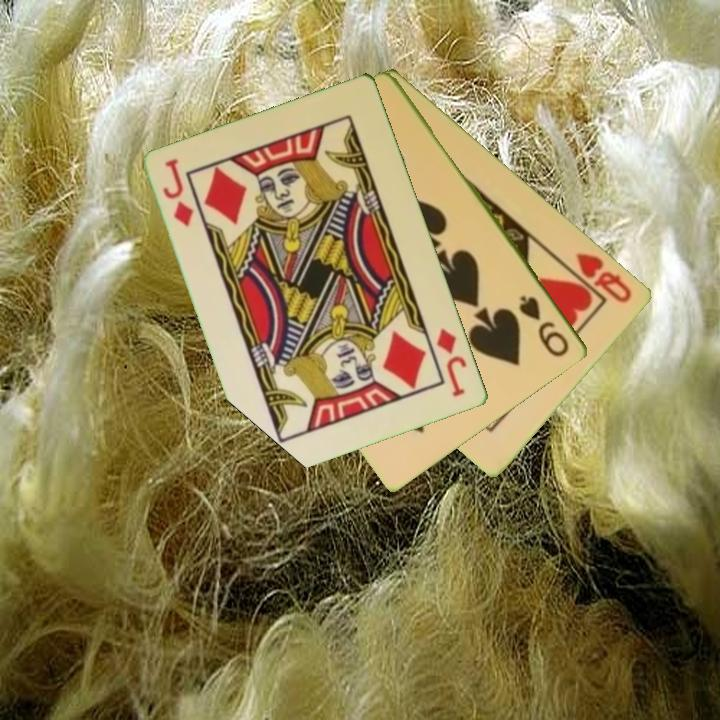9s: (515, 291, 573, 361)
Jd: (433, 325, 471, 400), (160, 155, 197, 230)
Qh: (573, 249, 636, 306)
